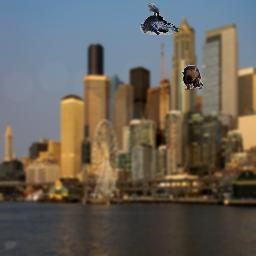Crow: (140, 3, 180, 35), (181, 65, 203, 90)
